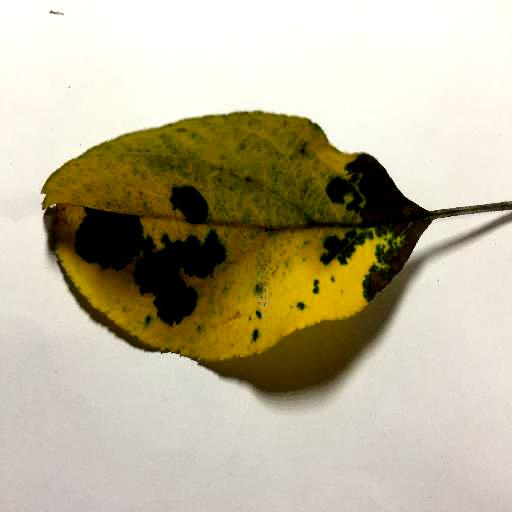Brown_Spot: (69, 181, 225, 326), (322, 152, 425, 298)
